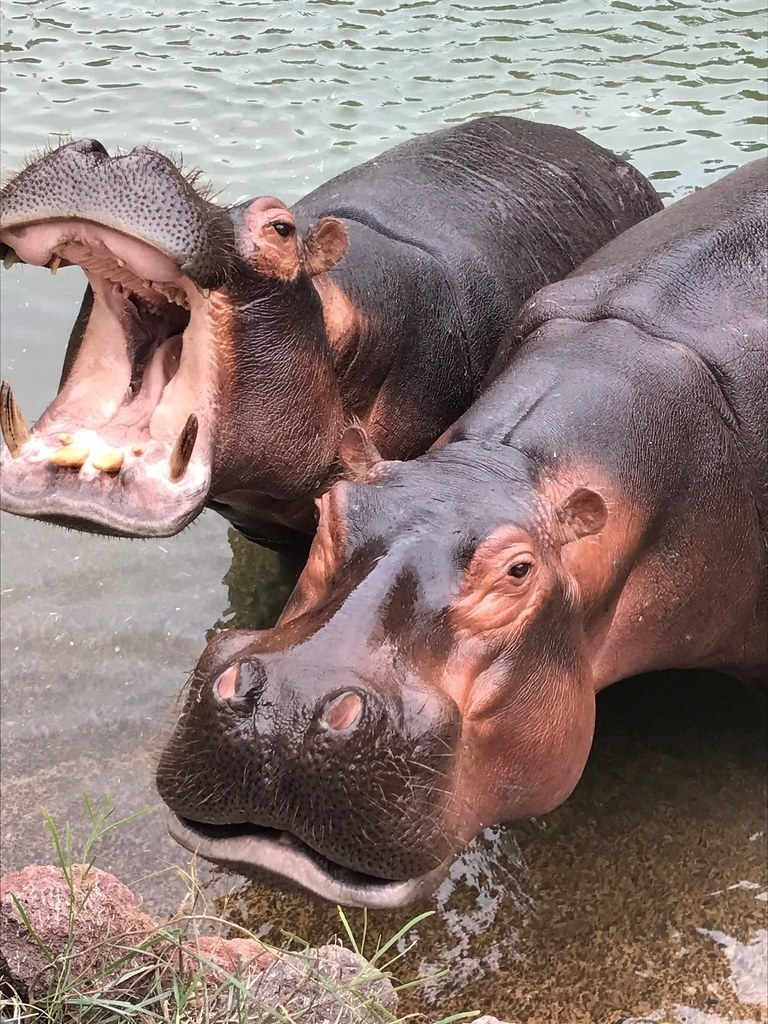hipopotamo: (148, 251, 768, 919), (1, 95, 672, 547)
